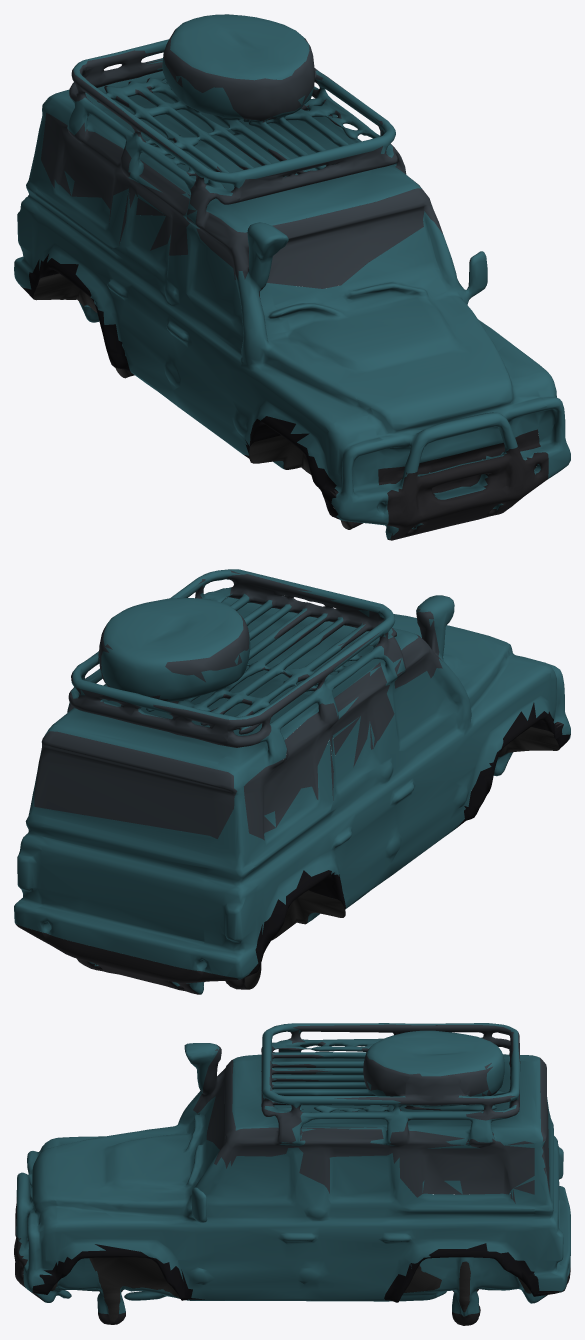
Rendered from grizzly.glb.
3 renders of one model, top to bottom at view 1: azimuth 30°, elevation 25°; view 2: azimuth 150°, elevation 25°; view 3: azimuth 270°, elevation 25°, orthographic. The views are drawn at different scales.
Parts seen in each view (by area): view 1: body; view 2: body; view 3: body.
Part boxes in pixels (bbox=[...]): body: bbox=[14, 14, 570, 540]; body: bbox=[14, 569, 570, 994]; body: bbox=[14, 1023, 570, 1325].
Size of the model in its own units: 2 by 2.39 by 4.6.
